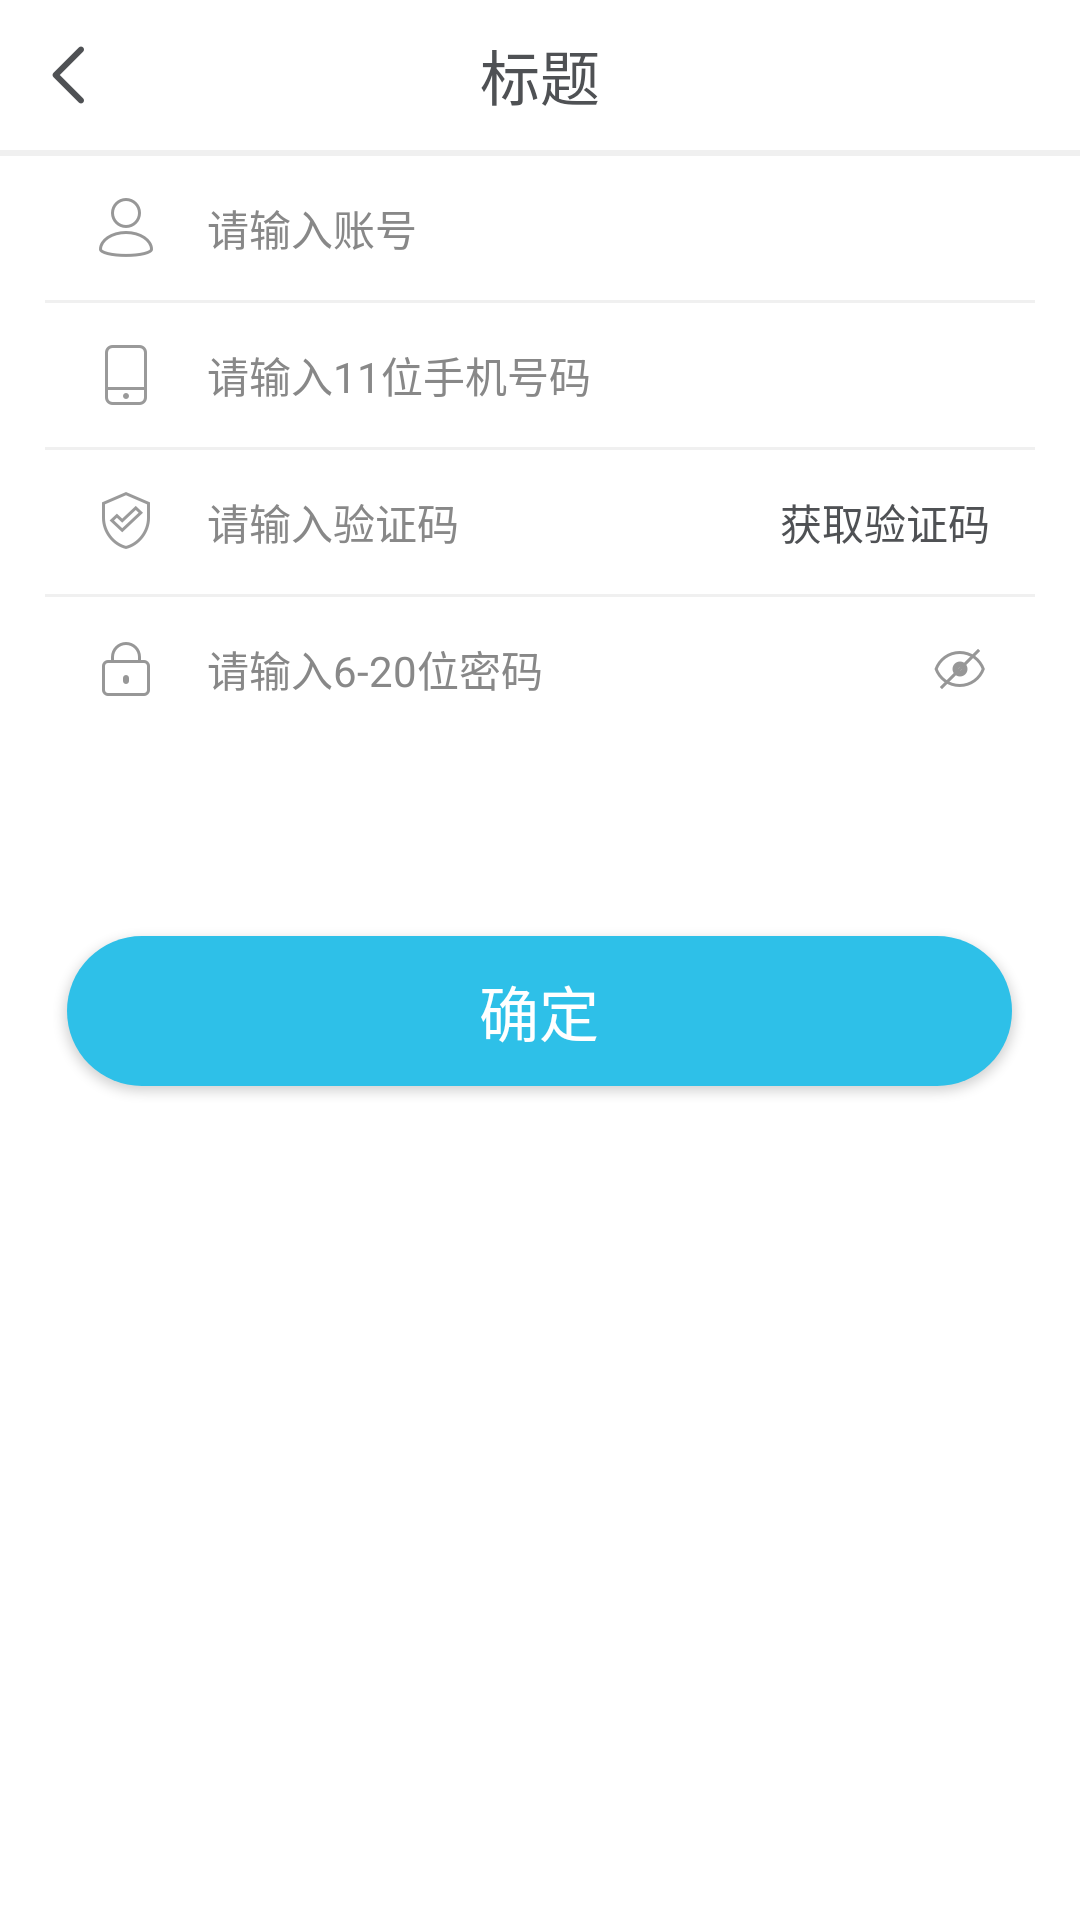

Locate icon controls on the screen. Image size 1080px×1920px, boxes as (x1, y1, x2, y2).
back: (52, 46, 84, 104)
lock: (102, 642, 150, 696)
verification: (102, 492, 150, 549)
